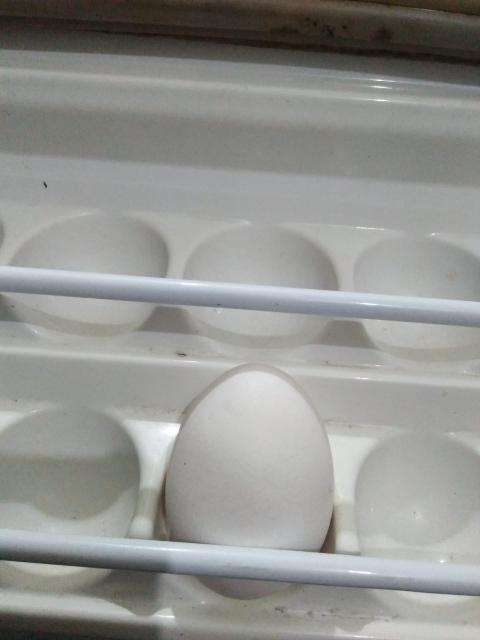Sano: (163, 362, 335, 599)
